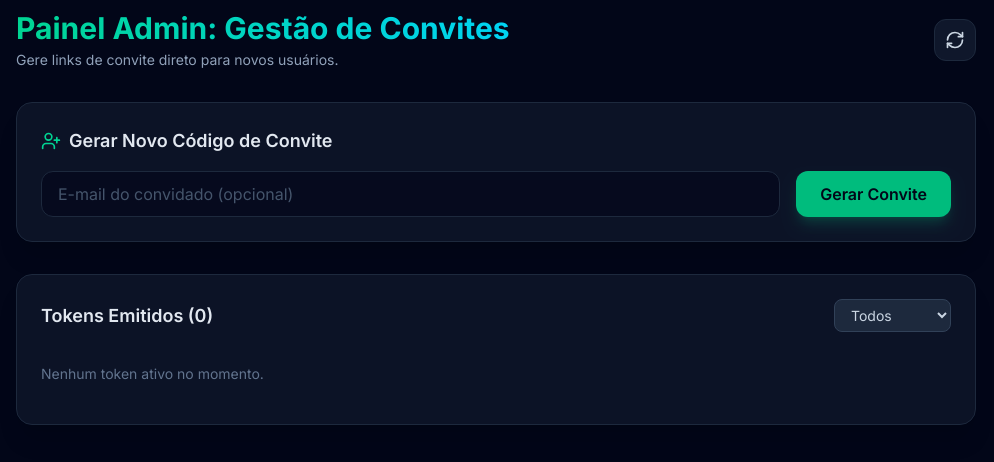
Test case: AdminInvitesPage Component › handles successful invite refresh
Expected: the text "Nenhum token ativo no momento." is shown, left=41, top=365, right=264, bottom=382
Click the button with test id "btnRefresh": (955, 40) left=934, top=19, right=976, bottom=61
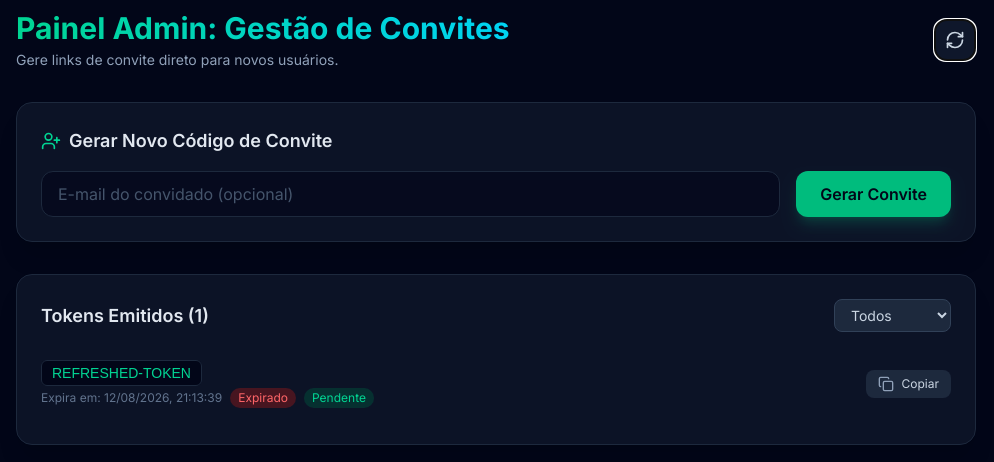
Expected: the text "REFRESHED-TOKEN" is shown, left=41, top=360, right=202, bottom=386
